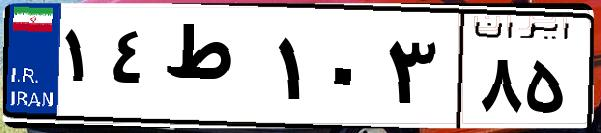0: (330, 28, 385, 110)
1: (270, 28, 330, 110), (57, 26, 110, 100)
3: (385, 28, 445, 110)
4: (110, 28, 158, 98)
5: (525, 38, 570, 115)
8: (475, 38, 525, 113)
ط: (158, 20, 270, 120)
